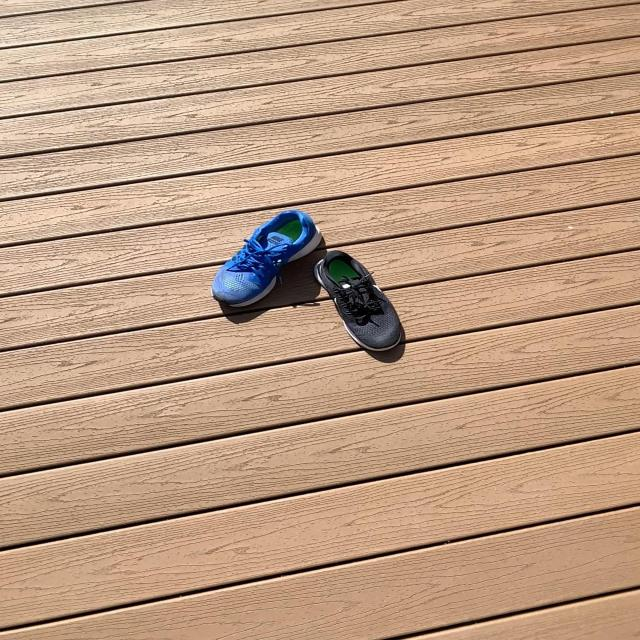shoe: (211, 210, 326, 315), (313, 250, 405, 337)
